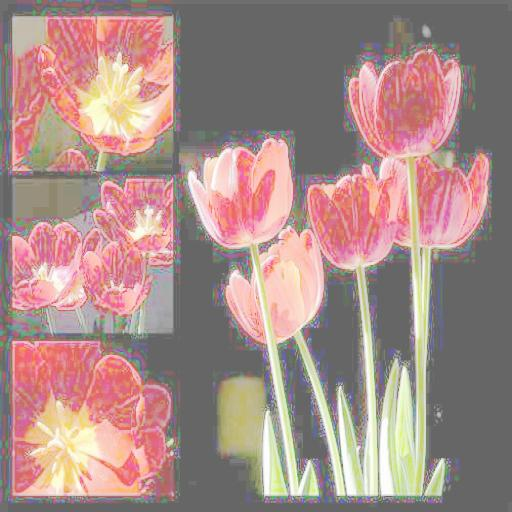tulip: (13, 338, 171, 496), (38, 14, 171, 154), (349, 46, 460, 158), (190, 136, 294, 240), (228, 225, 322, 340), (308, 165, 398, 266), (14, 220, 92, 308), (94, 179, 175, 263)
